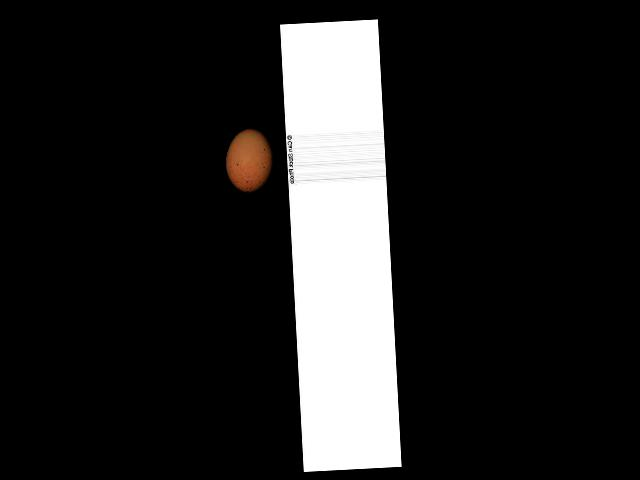egg: (224, 127, 275, 193)
